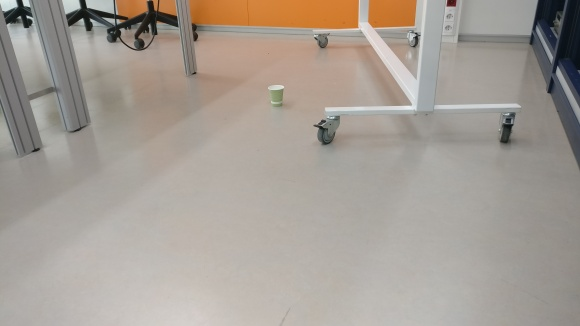cup: (267, 84, 285, 106)
